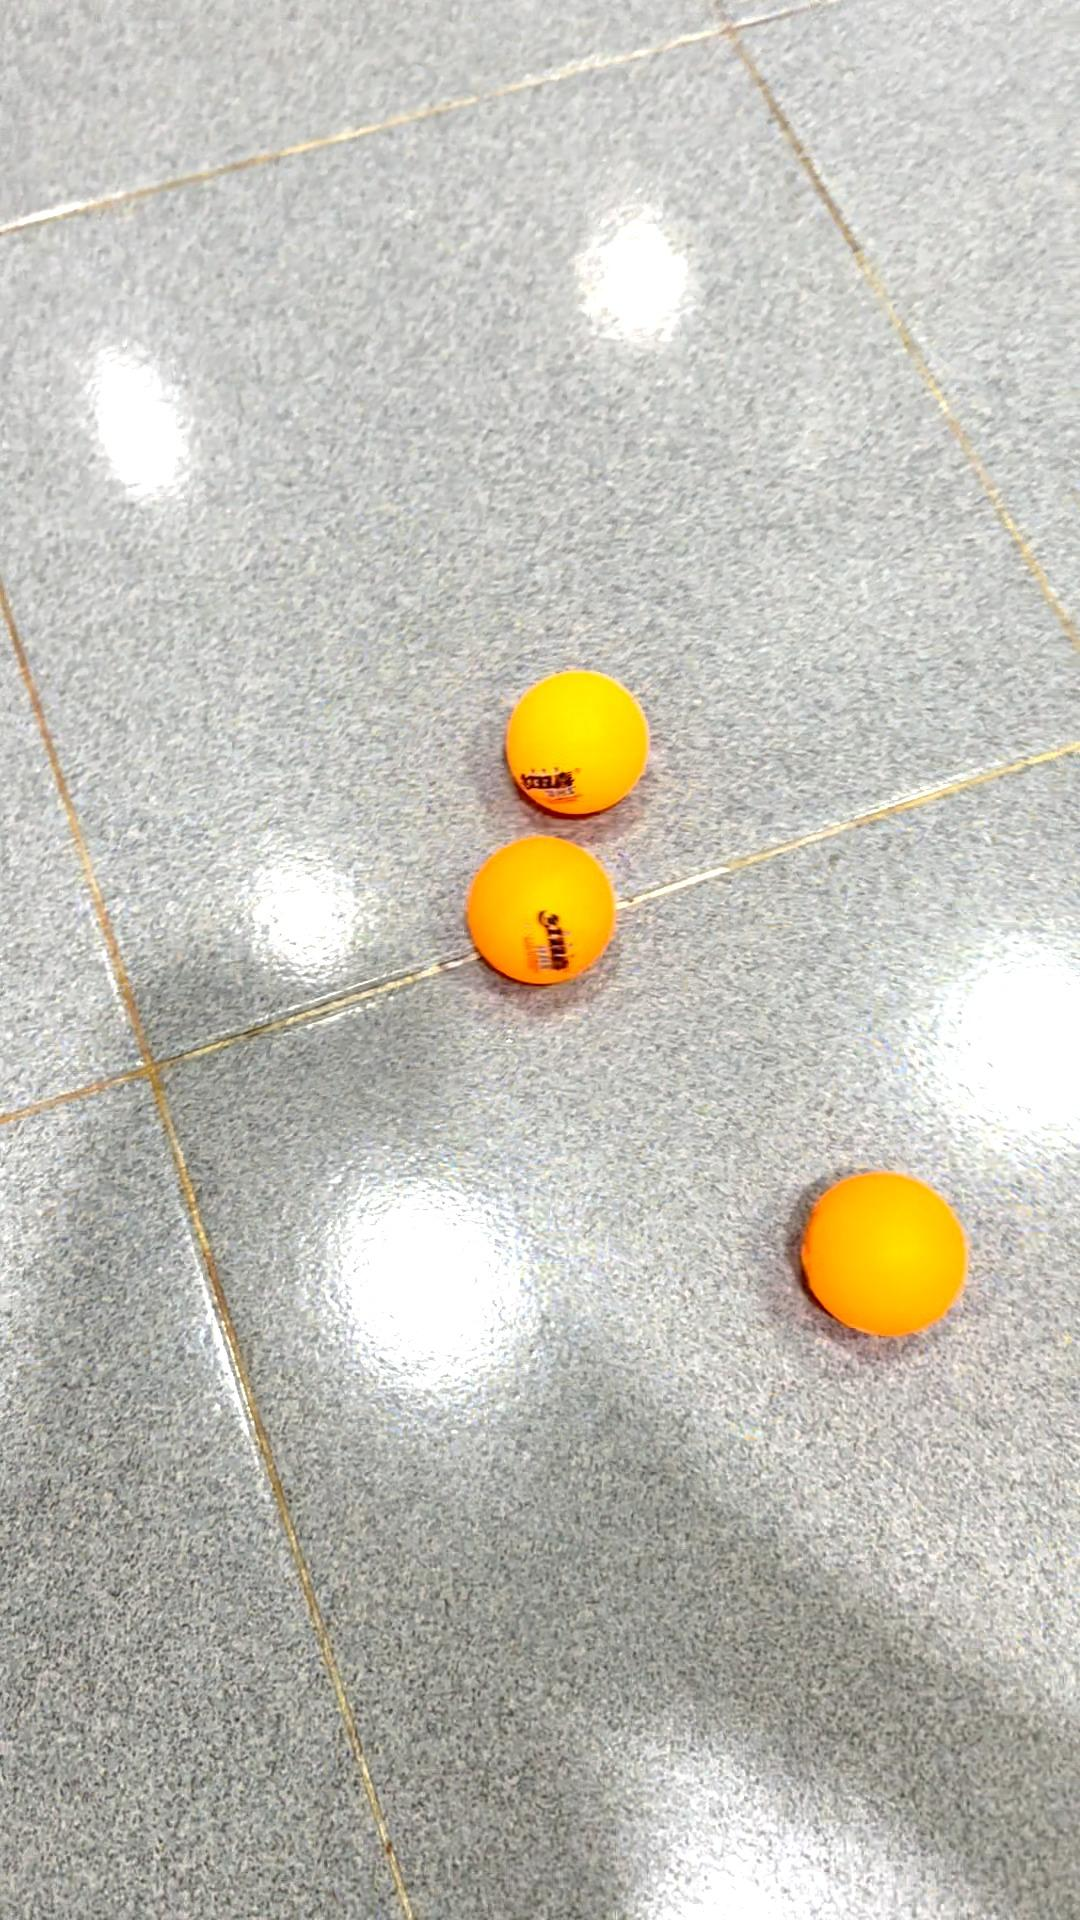oball: (802, 1167, 975, 1340), (495, 665, 653, 824), (462, 837, 626, 990)
